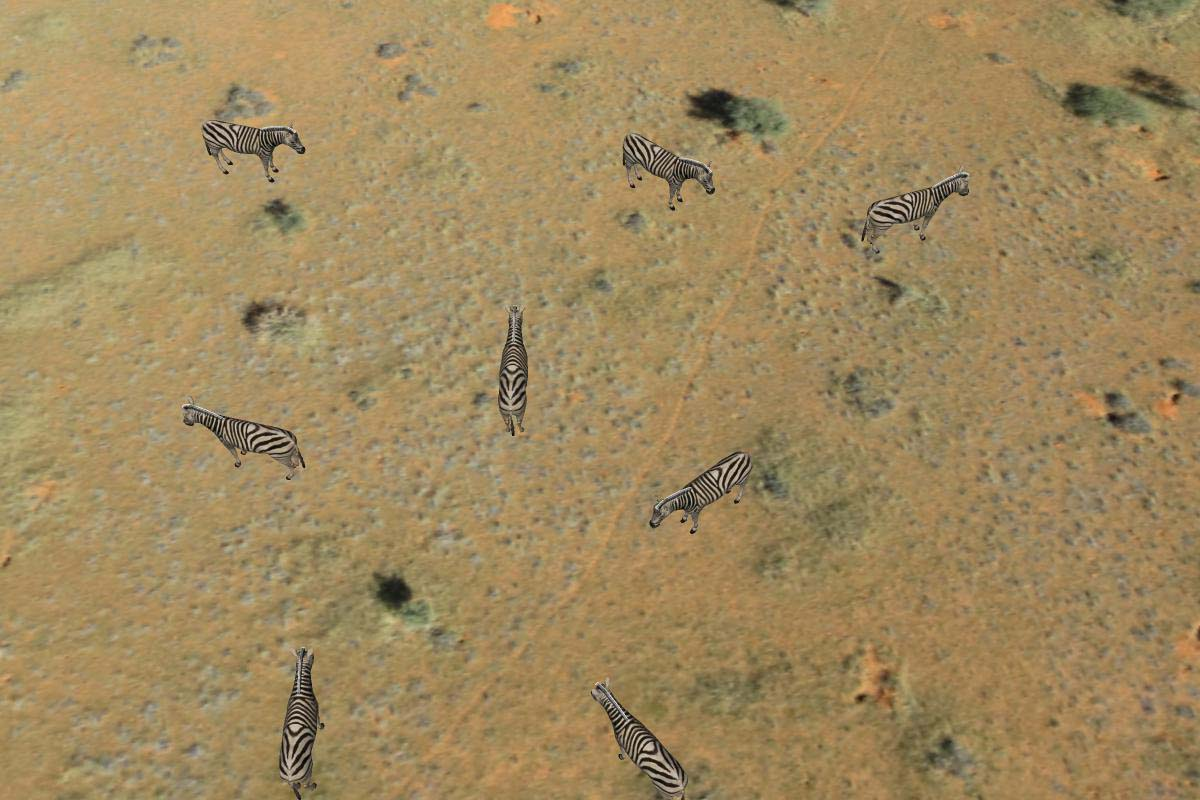zebra: (586, 648, 694, 800), (177, 396, 321, 477), (634, 444, 757, 531), (861, 169, 973, 256), (277, 637, 336, 800), (613, 125, 717, 215), (486, 304, 544, 448), (194, 121, 313, 187)
